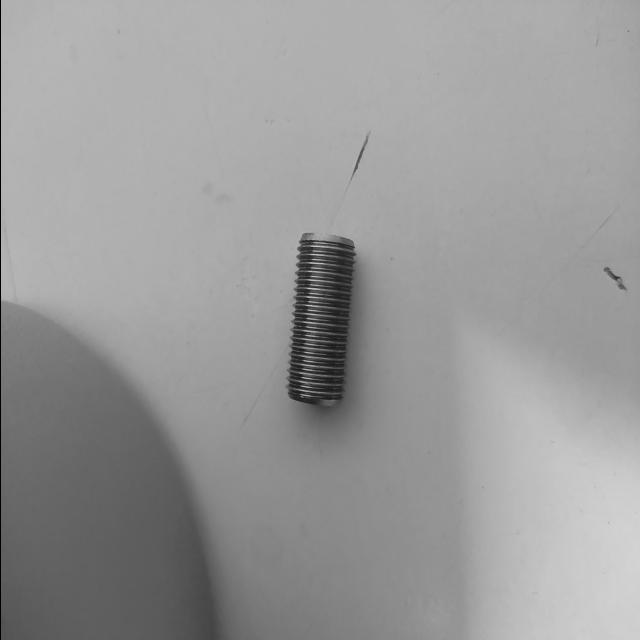Normal: (284, 233, 357, 407)
